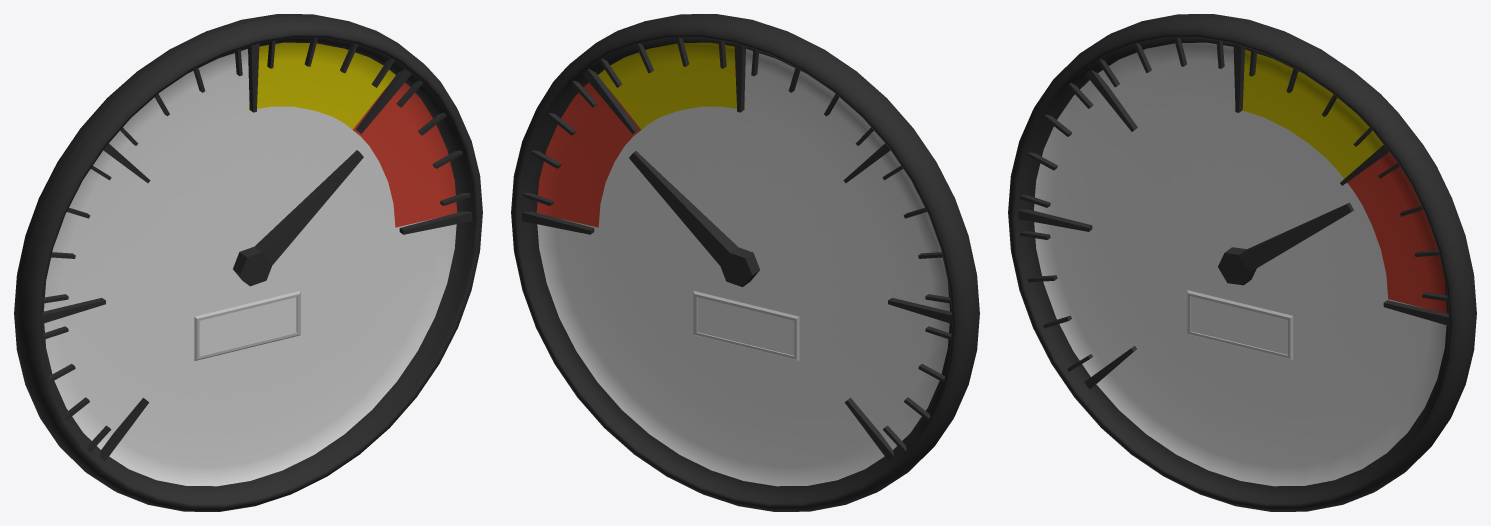
File: SM_Speedboost.fbx
The picture shows the model from 3 angles, left to right: view 1: azimuth 30°, elevation 25°; view 2: azimuth 150°, elevation 25°; view 3: azimuth 330°, elevation 25°; orthographic projection.
Parts seen in each view (by area): view 1: pCylinder4, pCube21, pPlane3, polySurface1, polySurface2; view 2: pCylinder4, pCube22, pPlane3, polySurface3, polySurface4; view 3: pCylinder4, pCube21, pPlane3, polySurface1, polySurface2.
Boxes of the visible parts, bbox=[...] form: pCylinder4: bbox=[14, 14, 482, 511]; pCube21: bbox=[41, 38, 471, 461]; pPlane3: bbox=[194, 291, 300, 360]; polySurface1: bbox=[254, 150, 363, 264]; polySurface2: bbox=[233, 246, 272, 286]; pCylinder4: bbox=[511, 14, 979, 511]; pCube22: bbox=[522, 38, 952, 461]; pPlane3: bbox=[693, 291, 799, 360]; polySurface3: bbox=[629, 151, 738, 265]; polySurface4: bbox=[720, 247, 759, 286]; pCylinder4: bbox=[1008, 14, 1476, 511]; pCube21: bbox=[1018, 38, 1449, 388]; pPlane3: bbox=[1187, 290, 1293, 360]; polySurface1: bbox=[1239, 202, 1353, 272]; polySurface2: bbox=[1218, 247, 1256, 285].
Bounding box in the file's own units: 1.29 × 1.29 × 0.1044.
